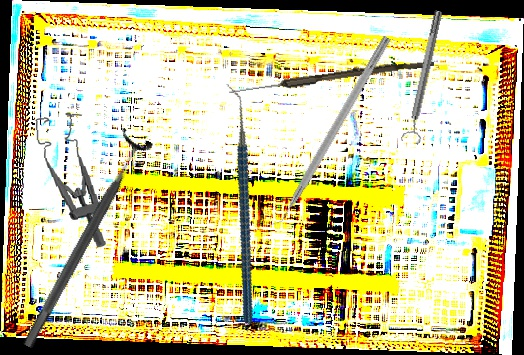Chopper: (160, 83, 317, 325), (260, 29, 392, 236)
Fixation Ring: (10, 127, 156, 355), (398, 8, 451, 146)
Speculum: (33, 108, 109, 254)
Surgical Spoon: (228, 55, 435, 99)
